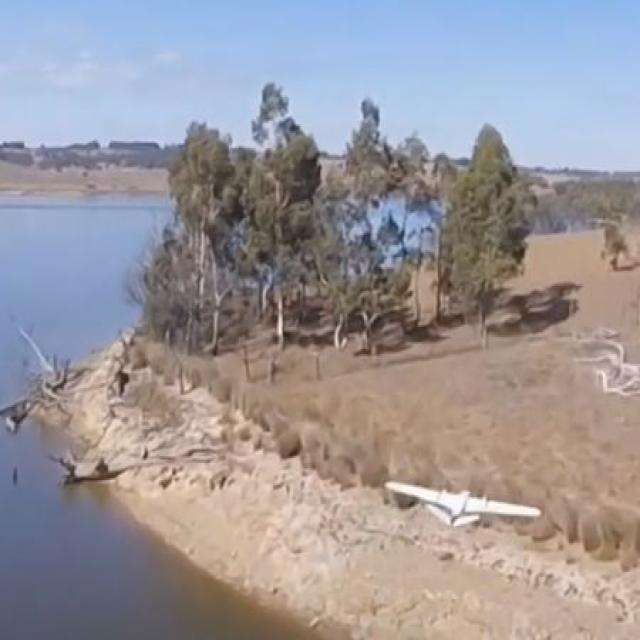iha: (383, 479, 542, 533)
